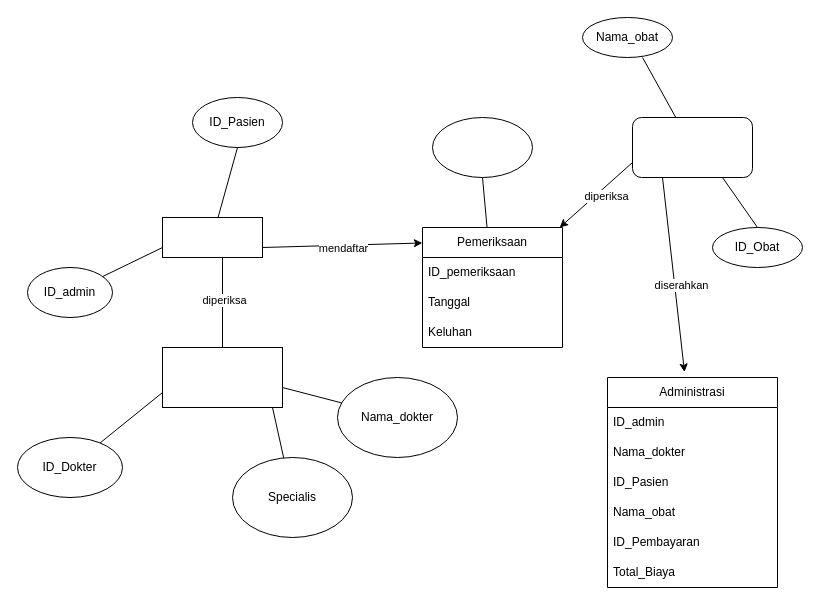
Image size: 820x605. Some labels were removed from this diagram. The shapes that lost their labels are listed below. From the top down, each one's centre as x and y in pixels, then its label:
the point at 482,147: ID_Perawat
the point at 692,147: Apotek
the point at 212,237: Pasien
the point at 222,377: Dokter
